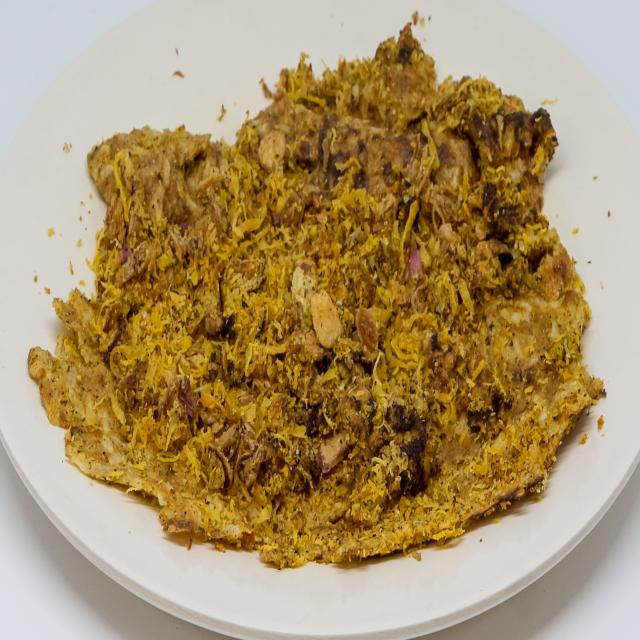Kerak-Telor: (24, 13, 610, 586)
